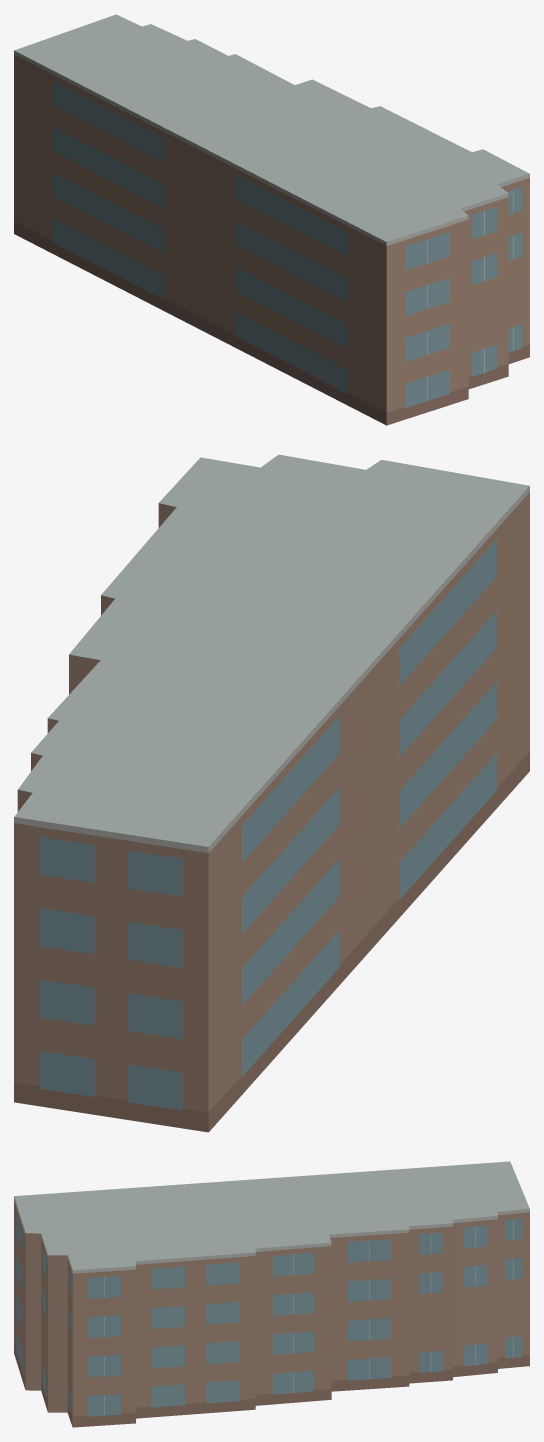
The model's file is survey-upis-32652473.glb.
The picture shows the model from 3 angles, top to bottom: view 1: azimuth 30°, elevation 25°; view 2: azimuth 150°, elevation 25°; view 3: azimuth 270°, elevation 25°; orthographic projection. The views are drawn at different scales.
Visible parts, largest first — view 1: survey-upis-32652473.tmp; view 2: survey-upis-32652473.tmp; view 3: survey-upis-32652473.tmp.
Part boxes in pixels (left/top/right/bottom): survey-upis-32652473.tmp: left=14, top=14, right=529, bottom=425; survey-upis-32652473.tmp: left=14, top=454, right=529, bottom=1132; survey-upis-32652473.tmp: left=14, top=1161, right=529, bottom=1427.
Bounding box in the file's own units: 16.81 × 11.3 × 33.62.
